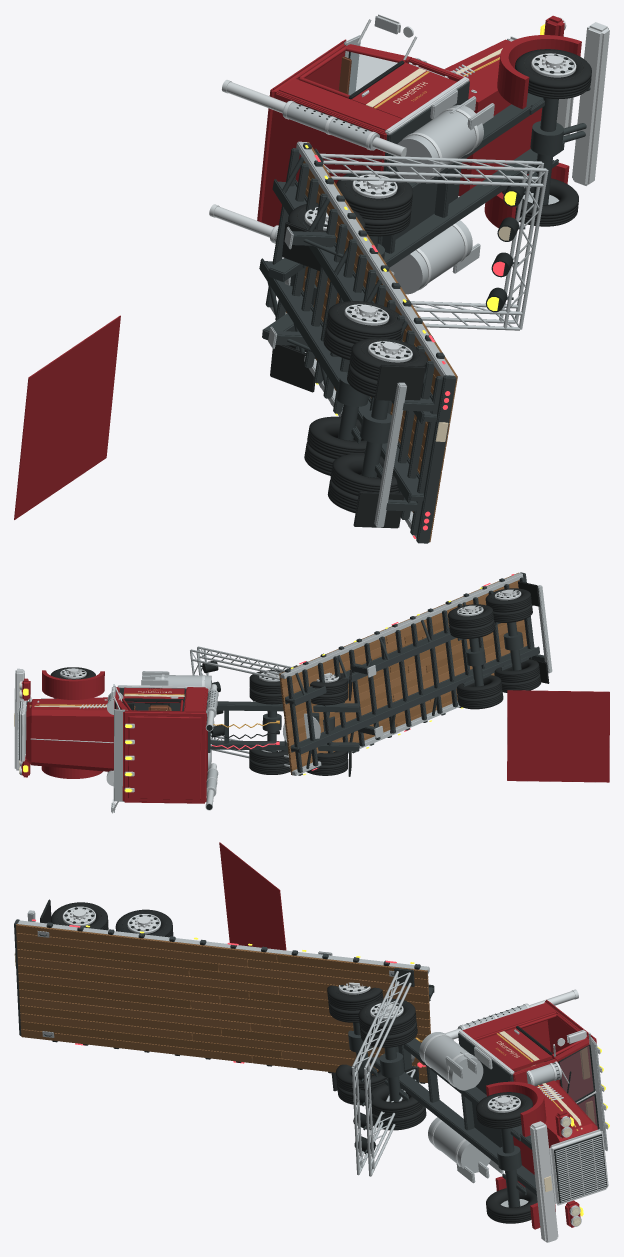
The model's file is BandFlatbedWreck.fbx.
3 renders of one model, top to bottom at view 1: azimuth 30°, elevation 25°; view 2: azimuth 150°, elevation 25°; view 3: azimuth 270°, elevation 25°, orthographic. The views are drawn at different scales.
Visible parts, largest first — view 1: BandFlatbedWreck; view 2: BandFlatbedWreck; view 3: BandFlatbedWreck.
Boxes of the visible parts, <box> form: BandFlatbedWreck: <box>14,14,609,543</box>; BandFlatbedWreck: <box>14,572,609,813</box>; BandFlatbedWreck: <box>14,842,609,1242</box>.
Size of the model in its own units: 1319 by 319 by 1147.
